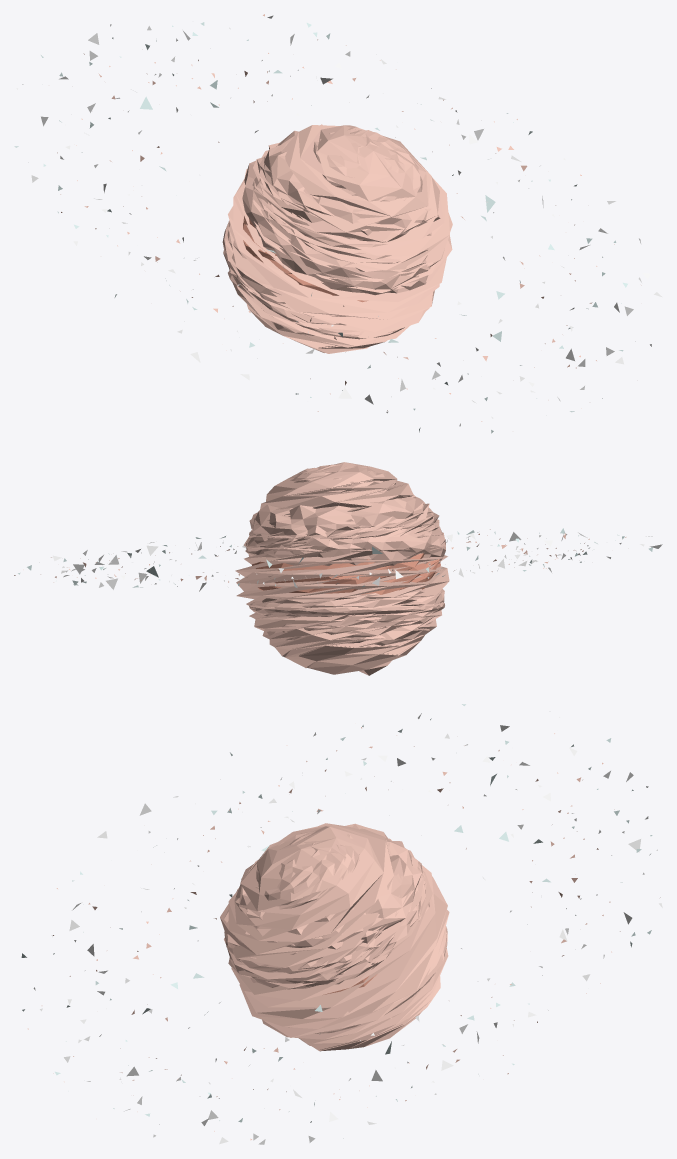
The model's file is saturn.gltf.
3 renders of one model, top to bottom at view 1: azimuth 30°, elevation 25°; view 2: azimuth 150°, elevation 25°; view 3: azimuth 270°, elevation 25°, orthographic. The views are drawn at different scales.
Parts seen in each view (by area): view 1: Saturn_Sphere_17, Saturn_Sphere_95_Sphere_94, Saturn_Sphere_7_Sphere_71, Saturn_Sphere_411_Sphere_410, Saturn_Sphere_85_Sphere_84, Saturn_Sphere_6_Sphere_61, Saturn_Sphere_24_Sphere_22, Saturn_Sphere_17_1, Saturn_Sphere_3_Sphere_31; view 2: Saturn_Sphere_17, Saturn_Sphere_411_Sphere_410, Saturn_Sphere_95_Sphere_94, Saturn_Sphere_6_Sphere_61, Saturn_Sphere_3_Sphere_31, Saturn_Sphere_17_1, Saturn_Sphere_5_Sphere_51, Saturn_Sphere_7_Sphere_71, Saturn_Sphere_24_Sphere_22, Saturn_Sphere_85_Sphere_84; view 3: Saturn_Sphere_17, Saturn_Sphere_411_Sphere_410, Saturn_Sphere_85_Sphere_84, Saturn_Sphere_17_1, Saturn_Sphere_95_Sphere_94, Saturn_Sphere_7_Sphere_71.
Part boxes in pixels (x1=…): Saturn_Sphere_17: x1=228, y1=125, x2=452, y2=353; Saturn_Sphere_95_Sphere_94: x1=242, y1=157, x2=431, y2=295; Saturn_Sphere_7_Sphere_71: x1=252, y1=145, x2=444, y2=275; Saturn_Sphere_411_Sphere_410: x1=264, y1=124, x2=440, y2=241; Saturn_Sphere_85_Sphere_84: x1=313, y1=127, x2=422, y2=201; Saturn_Sphere_6_Sphere_61: x1=223, y1=221, x2=370, y2=334; Saturn_Sphere_24_Sphere_22: x1=222, y1=220, x2=404, y2=339; Saturn_Sphere_17_1: x1=238, y1=159, x2=406, y2=347; Saturn_Sphere_3_Sphere_31: x1=243, y1=216, x2=367, y2=302; Saturn_Sphere_17: x1=235, y1=462, x2=449, y2=675; Saturn_Sphere_411_Sphere_410: x1=249, y1=491, x2=427, y2=542; Saturn_Sphere_95_Sphere_94: x1=246, y1=523, x2=445, y2=566; Saturn_Sphere_6_Sphere_61: x1=262, y1=588, x2=444, y2=626; Saturn_Sphere_3_Sphere_31: x1=252, y1=553, x2=440, y2=594; Saturn_Sphere_17_1: x1=247, y1=477, x2=441, y2=666; Saturn_Sphere_5_Sphere_51: x1=267, y1=616, x2=433, y2=646; Saturn_Sphere_7_Sphere_71: x1=245, y1=503, x2=439, y2=557; Saturn_Sphere_24_Sphere_22: x1=249, y1=600, x2=444, y2=616; Saturn_Sphere_85_Sphere_84: x1=290, y1=464, x2=395, y2=493; Saturn_Sphere_17: x1=220, y1=823, x2=449, y2=1051; Saturn_Sphere_411_Sphere_410: x1=234, y1=823, x2=425, y2=949; Saturn_Sphere_85_Sphere_84: x1=255, y1=831, x2=359, y2=909; Saturn_Sphere_17_1: x1=258, y1=876, x2=446, y2=1049; Saturn_Sphere_95_Sphere_94: x1=224, y1=858, x2=429, y2=989; Saturn_Sphere_7_Sphere_71: x1=224, y1=838, x2=426, y2=988.
Size of the model in its own units: 0.1484 by 0.056 by 0.1465.
